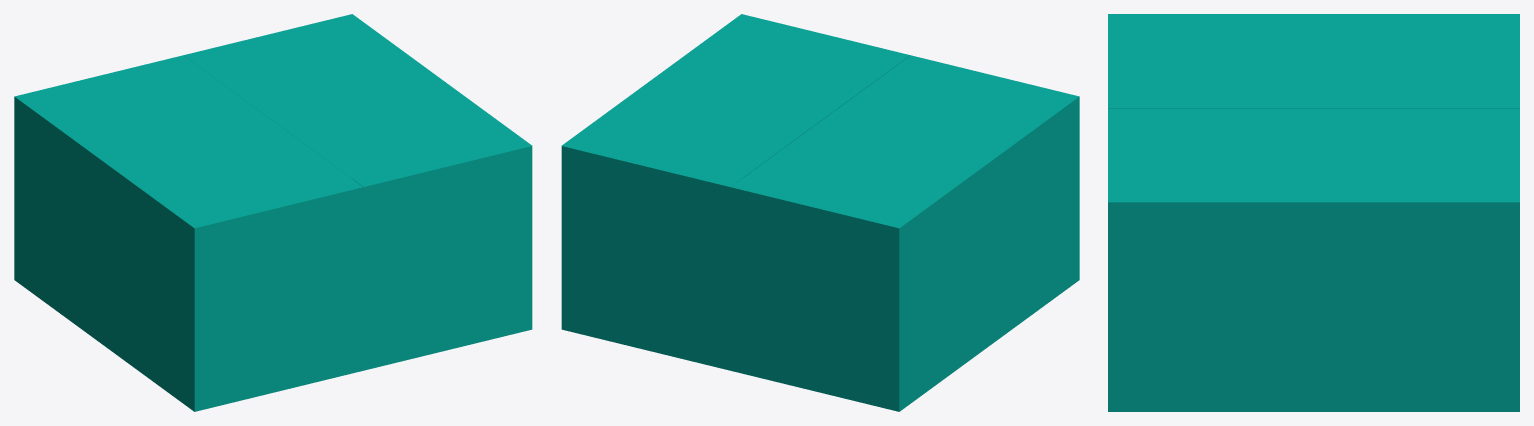
File: caixatancada.FBX
The picture shows the model from 3 angles, left to right: view 1: azimuth 30°, elevation 25°; view 2: azimuth 150°, elevation 25°; view 3: azimuth 270°, elevation 25°; orthographic projection. The views are drawn at different scales.
Visible parts, largest first — view 1: Object001; view 2: Object001; view 3: Object001.
Part boxes in pixels (x1=…): Object001: x1=14, y1=14, x2=532, y2=411; Object001: x1=561, y1=14, x2=1079, y2=411; Object001: x1=1108, y1=14, x2=1519, y2=411.
Bounding box in the file's own units: 56.67 × 29.41 × 52.32.
